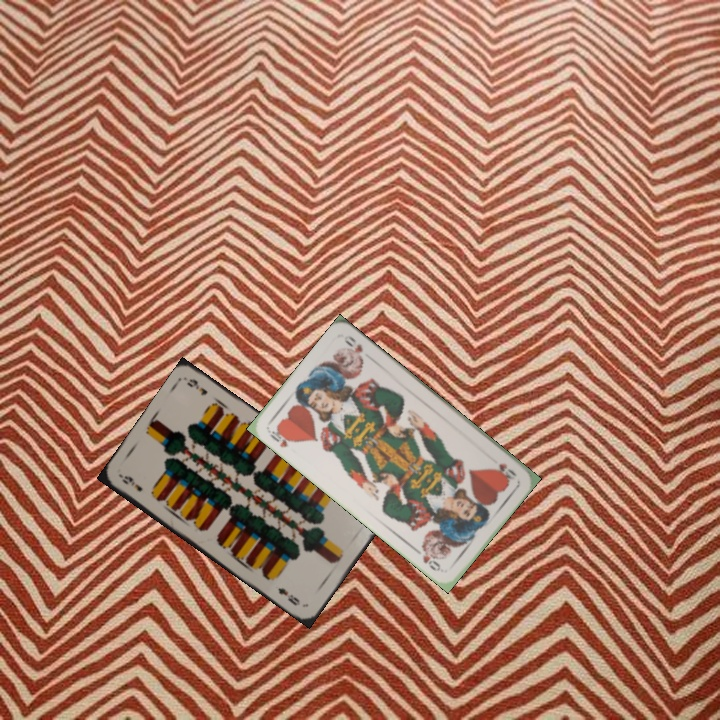E9: (116, 471, 145, 494)
HO: (264, 423, 296, 450), (493, 459, 520, 482)
